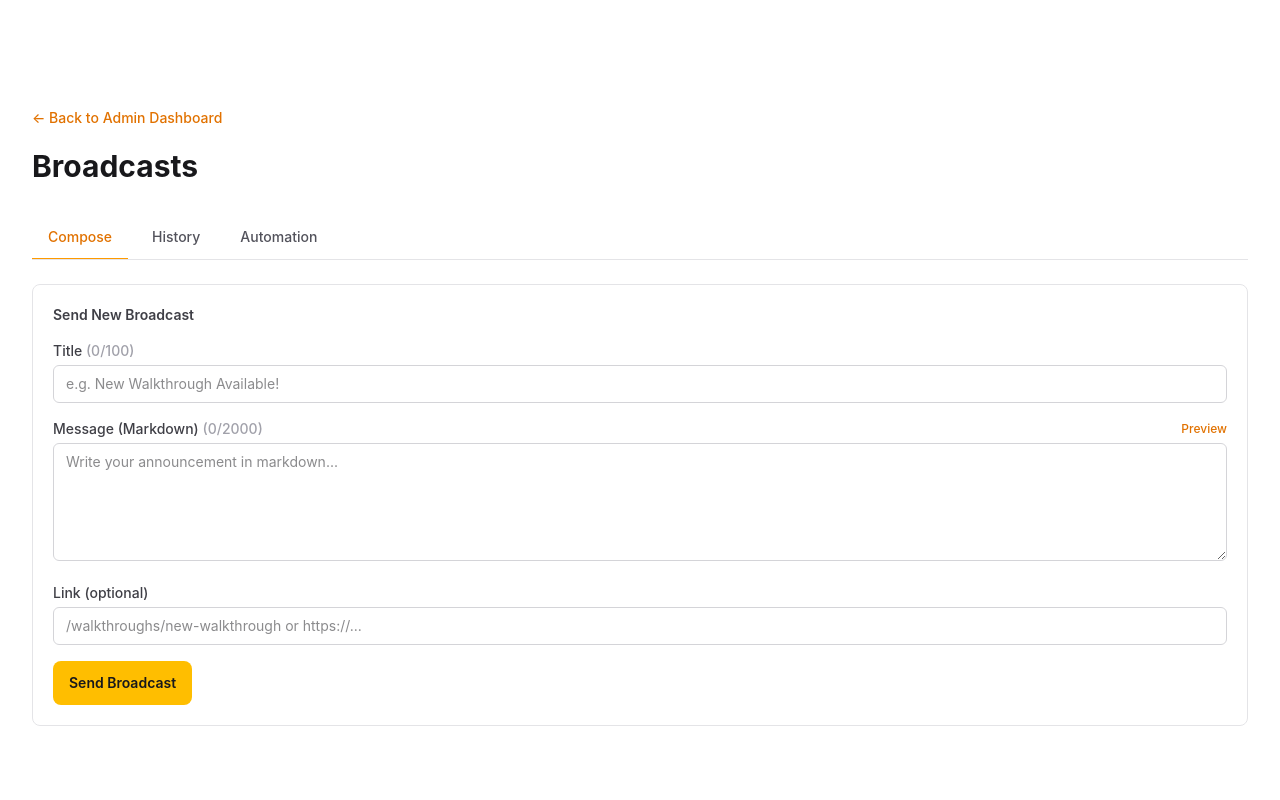
Test: admin view › switches to History and shows the new broadcast after a successful send
The width and height of the screenshot is (1280, 800).
Type "Big News" into the field labelled "Title (0/100)". click: [640, 384]
box: [53, 365, 1227, 403]
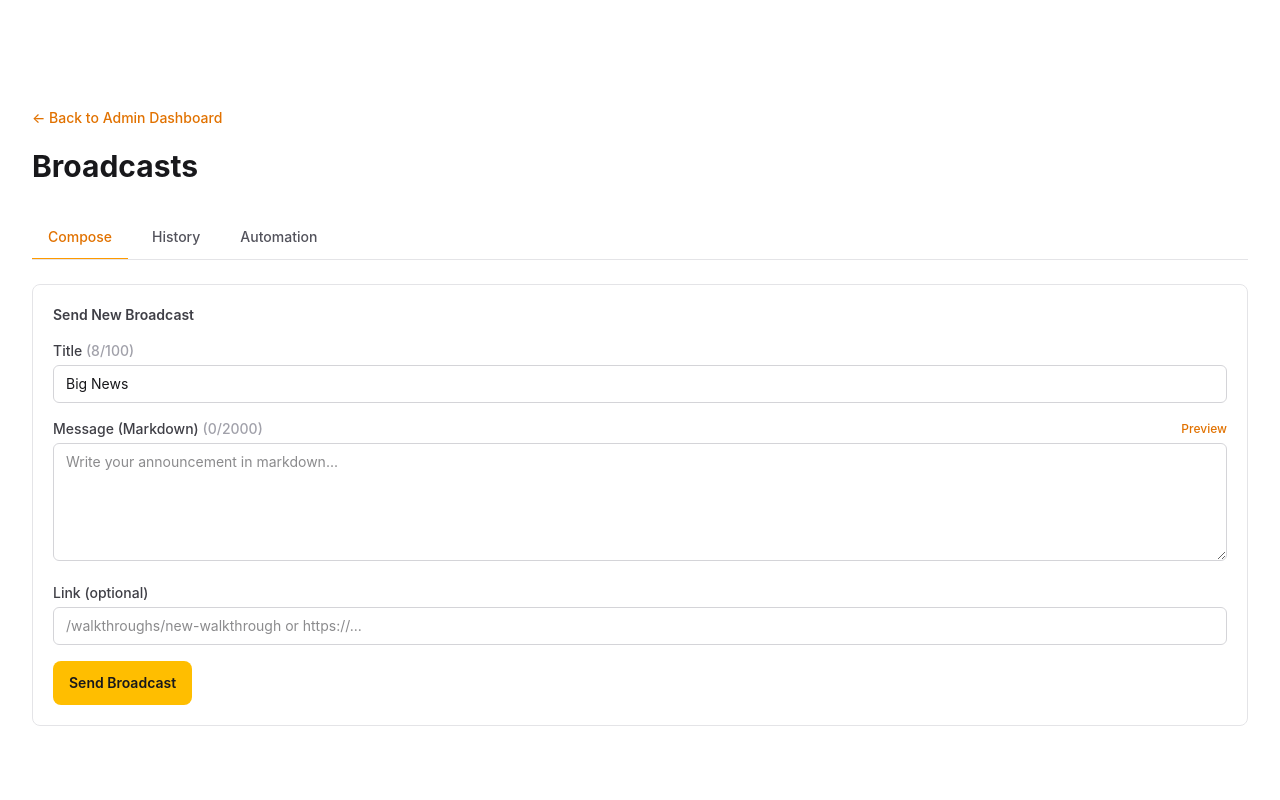
Type "Body" into the text box labelled "Message (Markdown) (0/2000)". click: [640, 502]
box: [53, 443, 1227, 561]
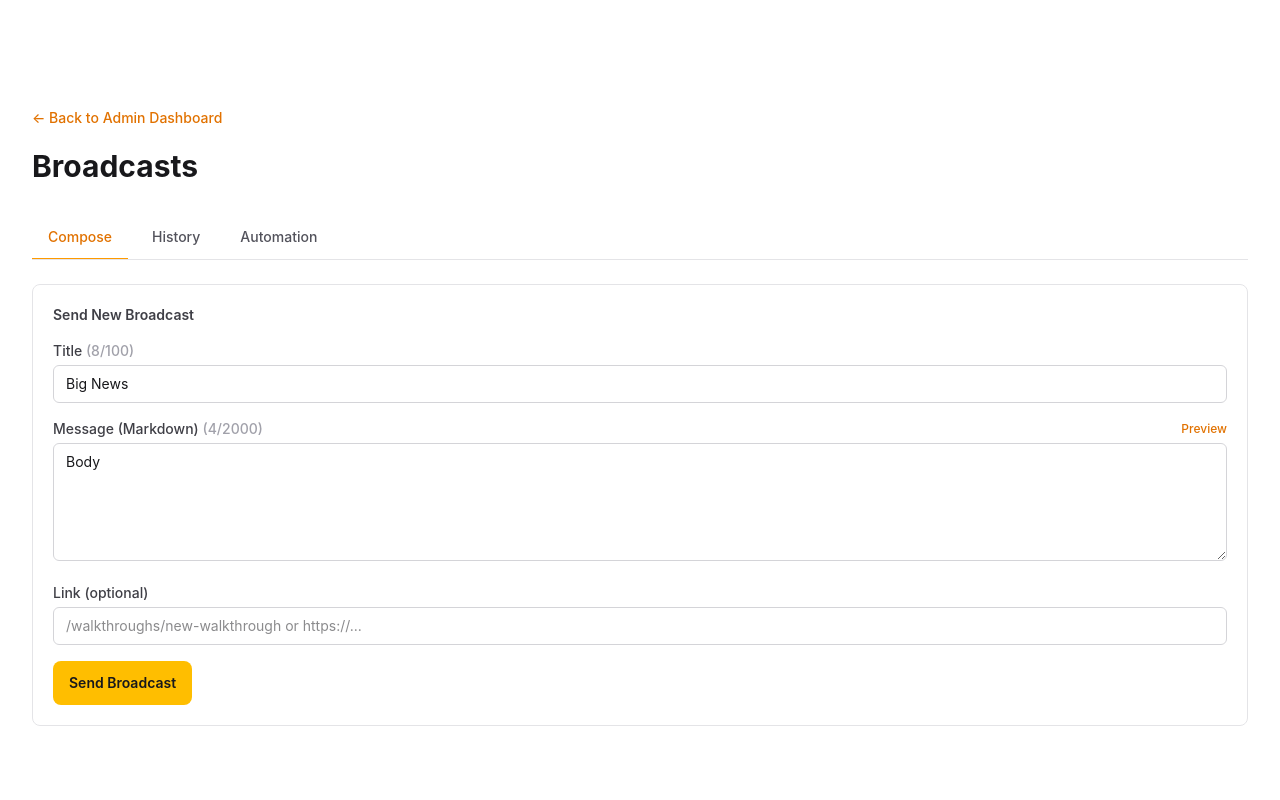
Click the button "Send Broadcast". click: [123, 683]
box: [53, 661, 192, 705]
(page scrolled)
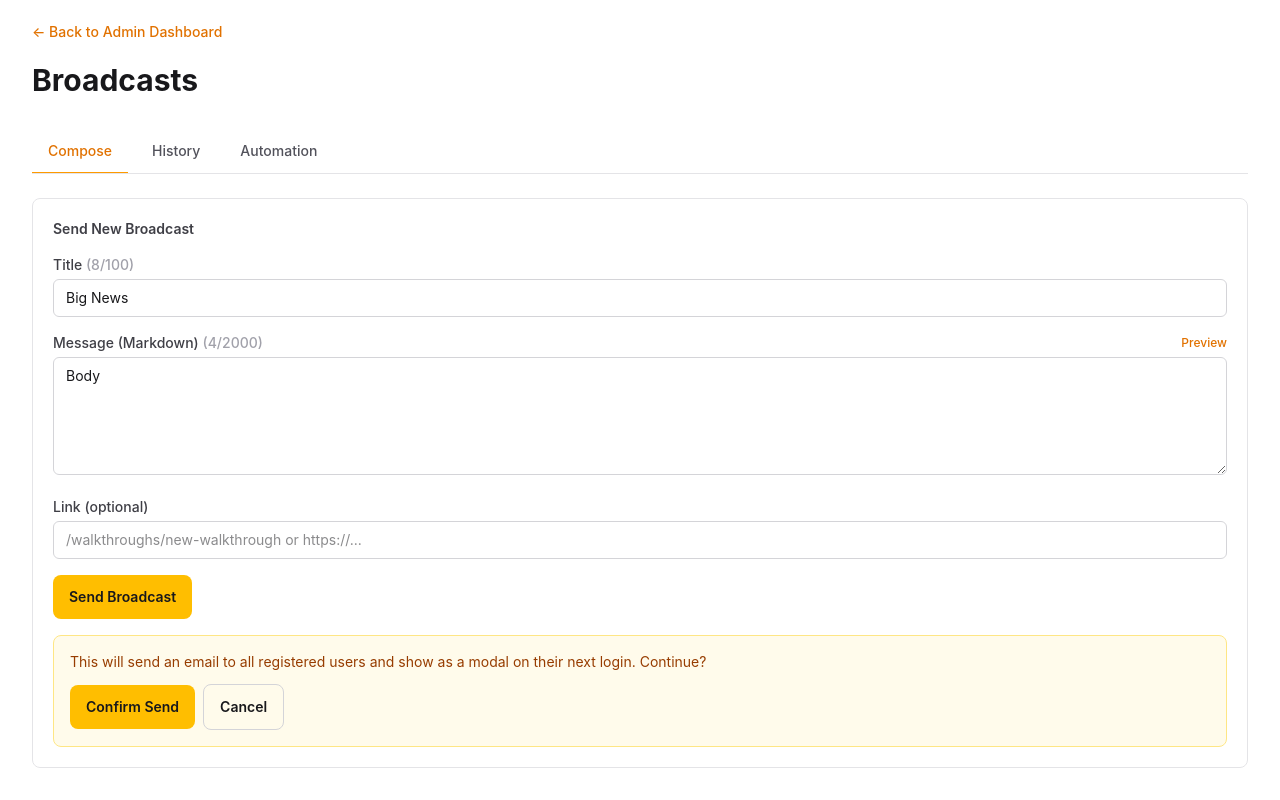
Click the button "Confirm Send". click: [133, 707]
box: [70, 685, 195, 729]
(page scrolled)
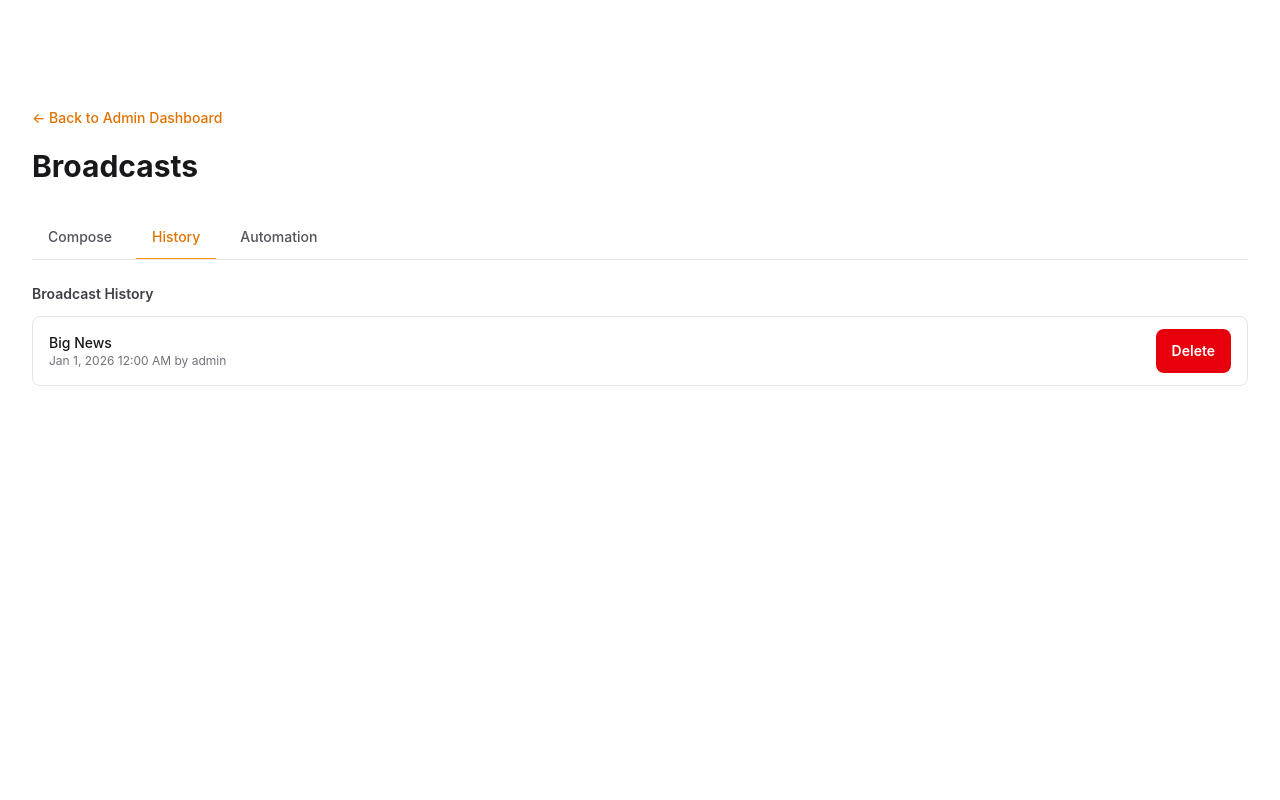
Expected: the text "Big News" is shown, [49, 333, 112, 353]
